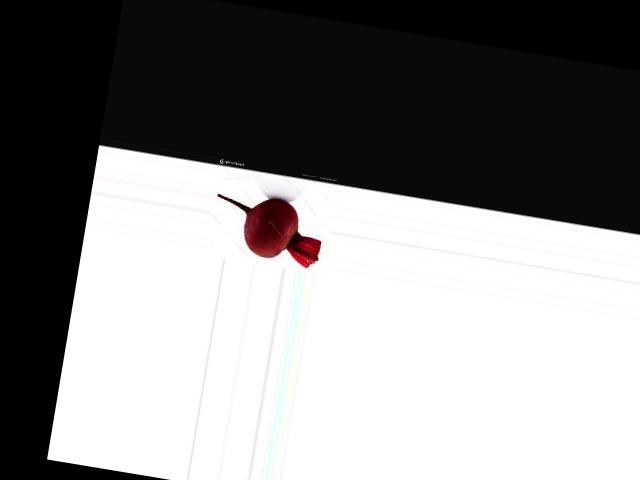beet: (209, 189, 327, 268)
